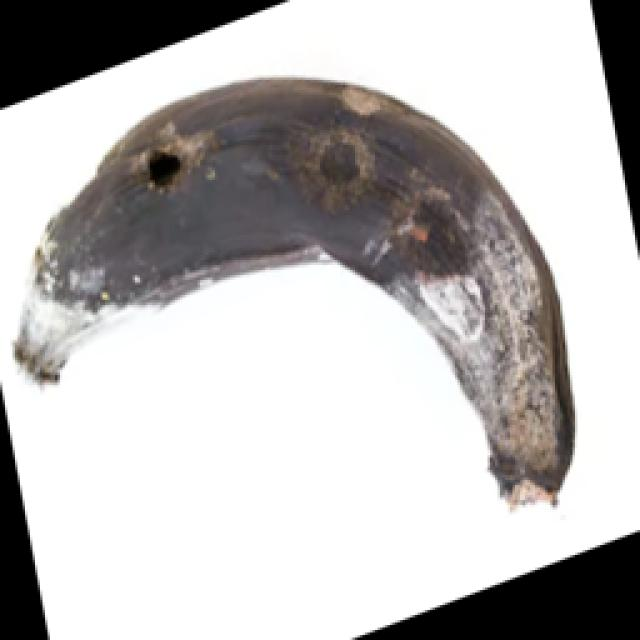Rotten_Banana: (5, 56, 620, 538)
